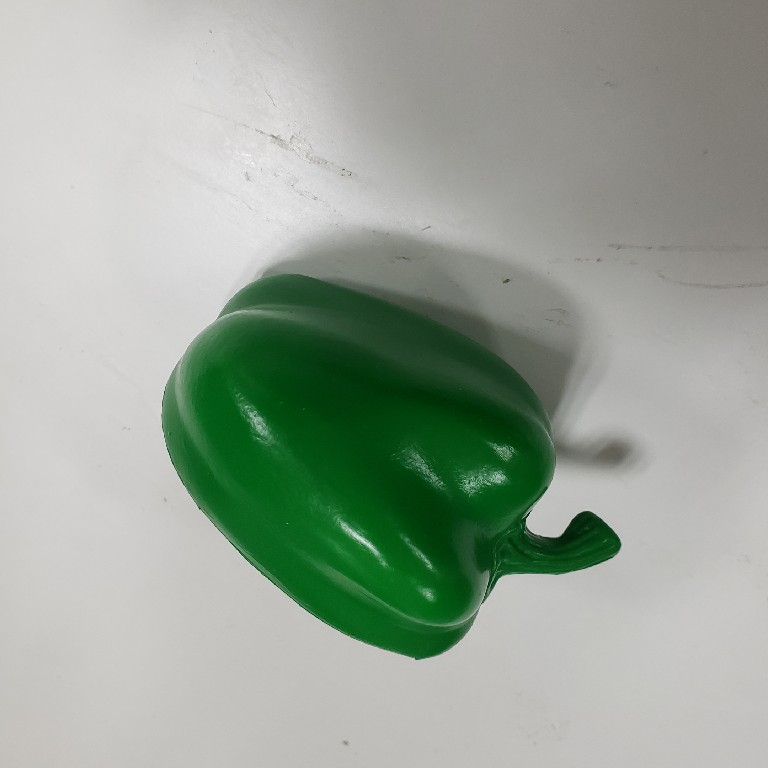fruit_pepper: (155, 269, 627, 665)
